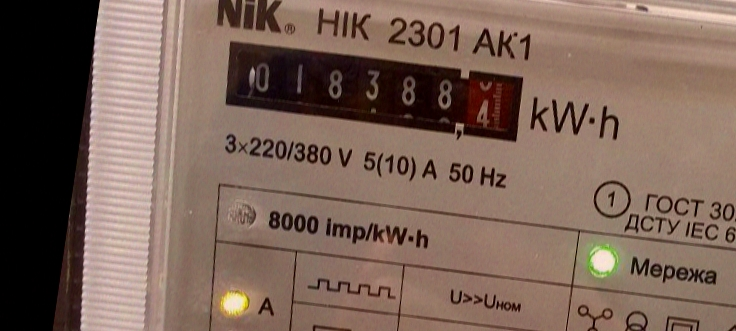0: (249, 58, 274, 97)
1: (288, 59, 311, 98)
3: (360, 67, 385, 104)
4: (471, 95, 495, 130)
8: (432, 75, 458, 114), (322, 65, 348, 103), (396, 73, 421, 111)
screen: (211, 25, 539, 160)
